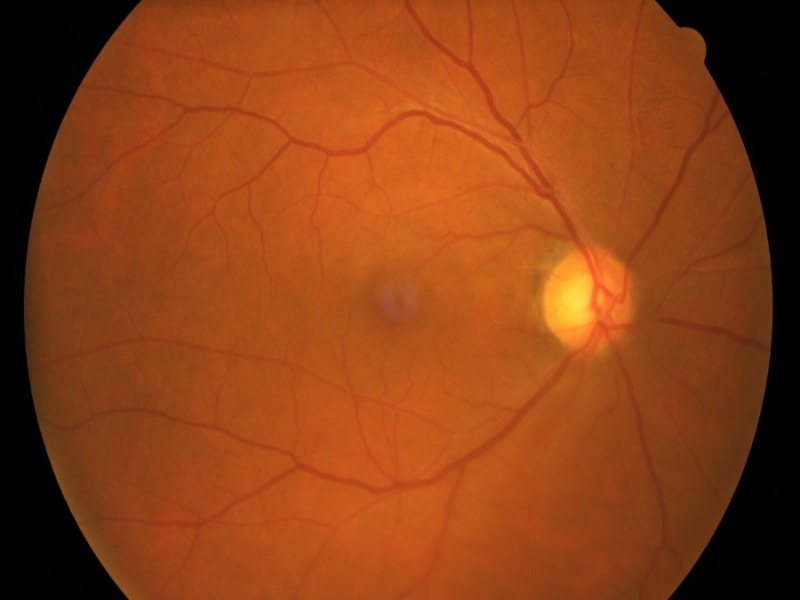Cup Disc: (543, 246, 633, 354)
Optic Cup: (560, 274, 595, 324)
